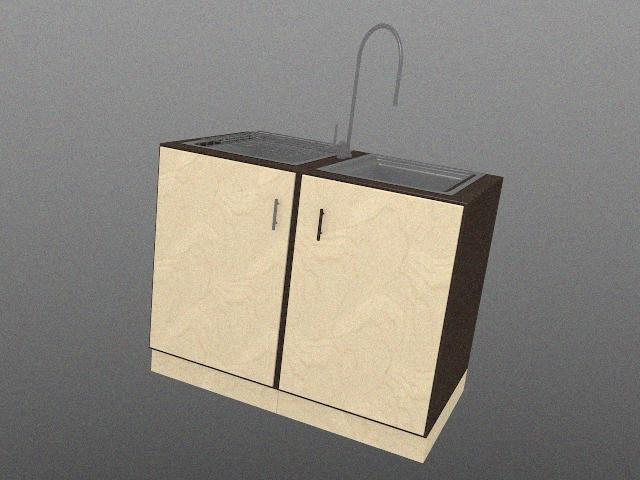cabinet_door: (290, 190, 444, 413), (154, 160, 284, 368)
handle: (309, 200, 331, 249), (263, 191, 284, 236)
